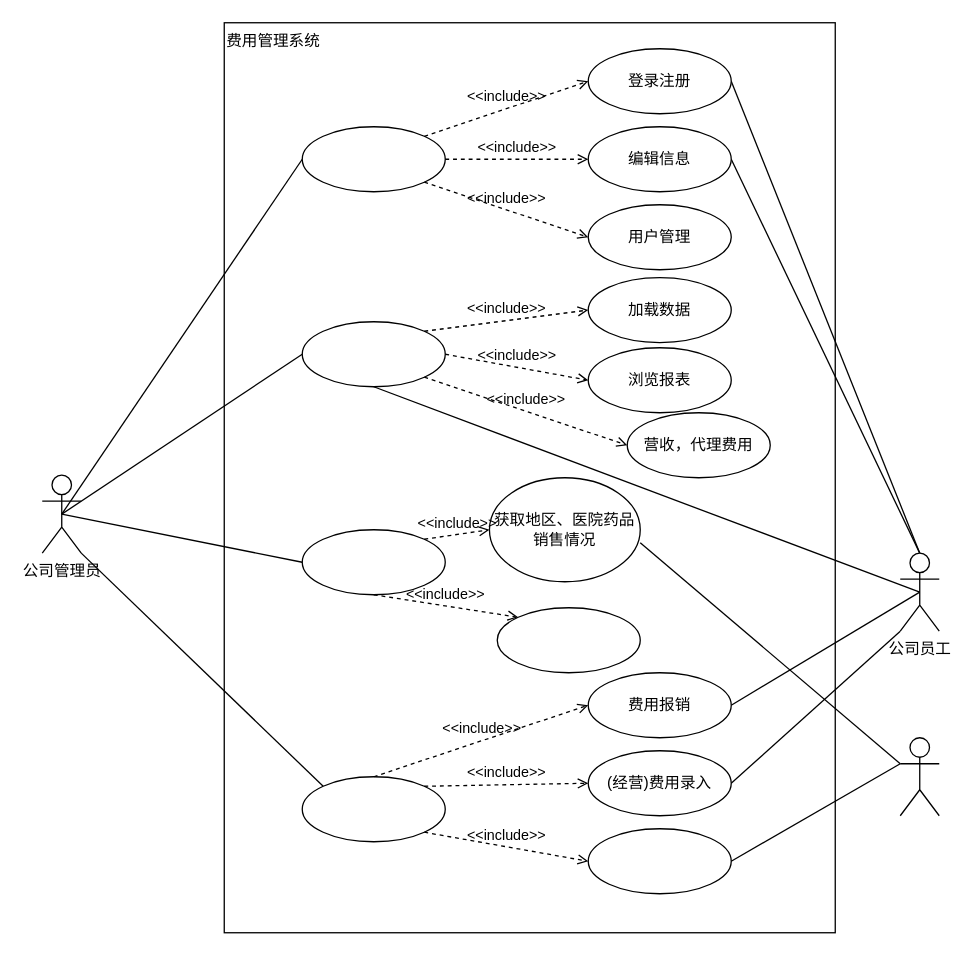
Some shapes in this 972 by 955 pixel diagram are drawn without their labels. The shapes that lost their labels are listed below. From the top down, each one's centre as x and y in pixels, then its label:
At [373,158]: "用户系统".
At [373,353]: "费用分析".
At [373,561]: "市场分析".
At [919,776]: "市场人员".
At [373,808]: "费用审批".
At [659,860]: "市场开发费用的申请".
